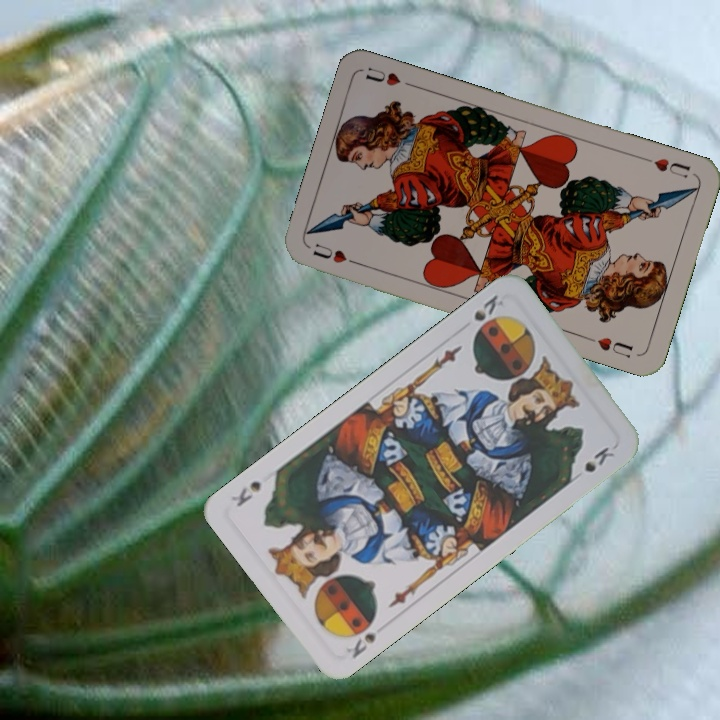HU: (309, 239, 364, 269), (639, 153, 693, 181)
SK: (469, 290, 508, 325), (342, 628, 380, 661)
